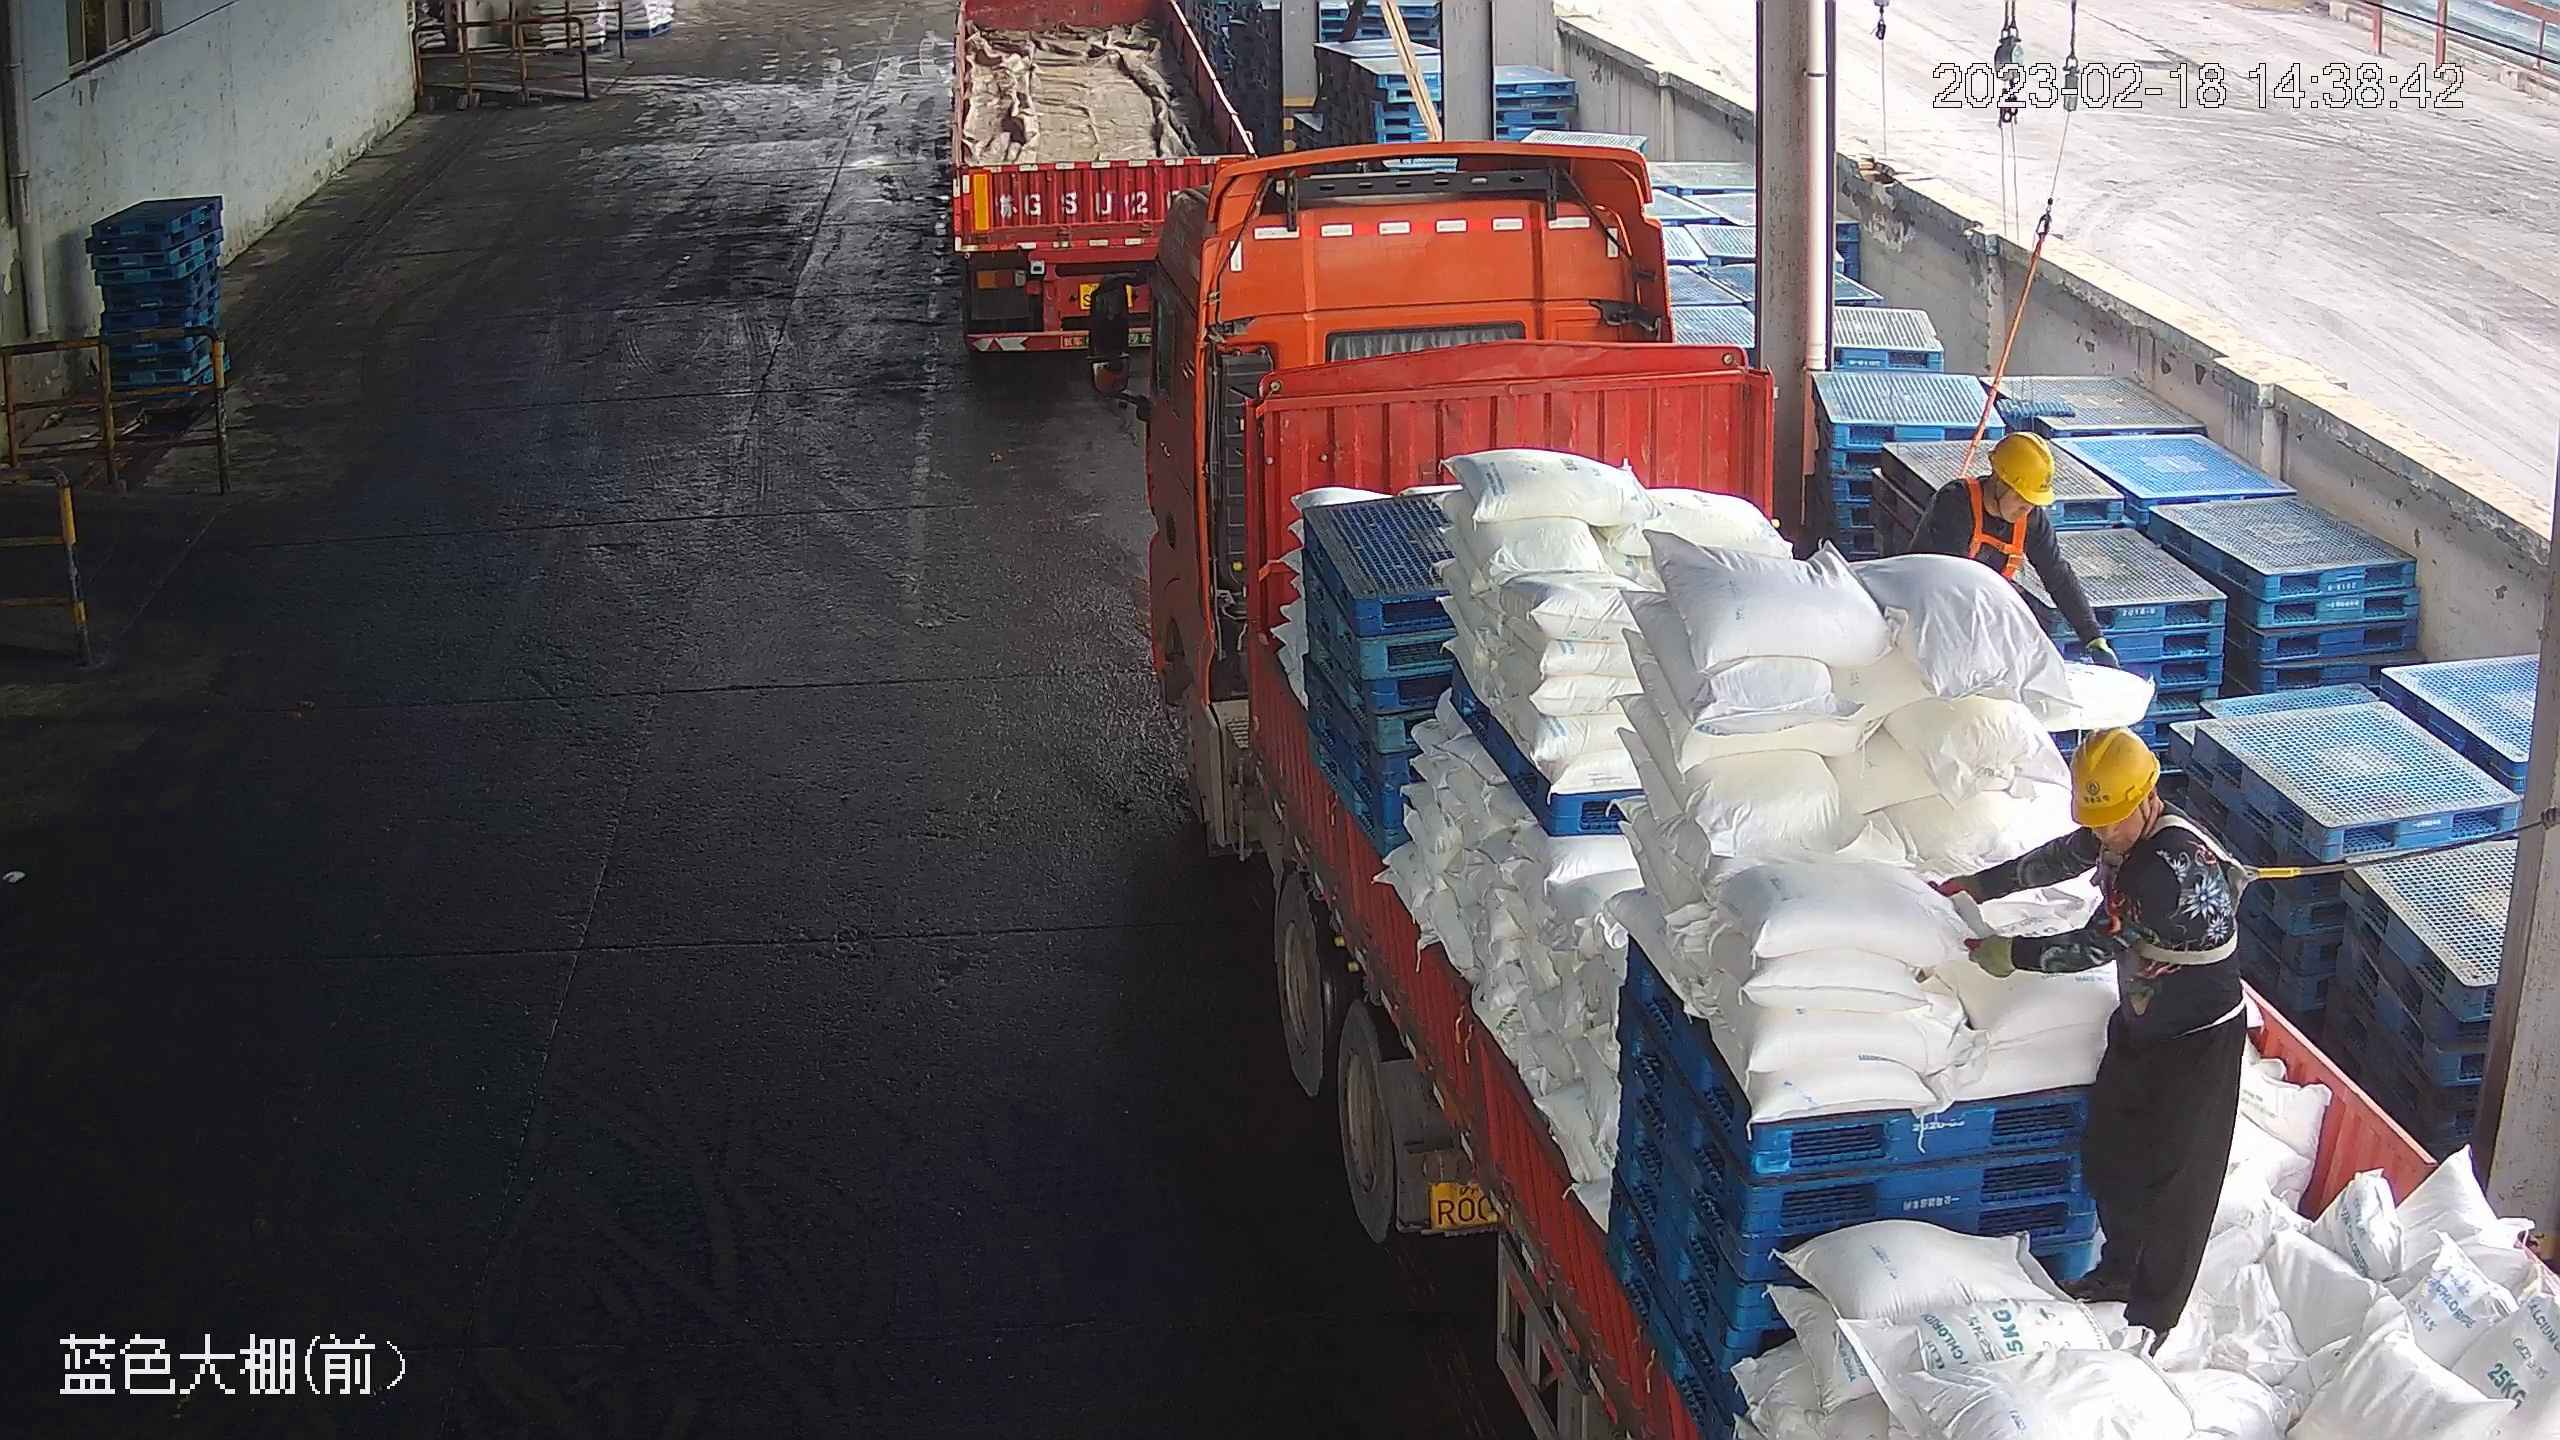belt: (2110, 820, 2275, 975), (1954, 471, 2047, 582)
head: (2062, 722, 2230, 904), (1919, 427, 2061, 538)
helmet: (2062, 720, 2163, 831), (1987, 428, 2058, 506)
people: (1927, 720, 2253, 1354)
truck: (1126, 148, 2559, 1437), (930, 6, 1269, 374)
